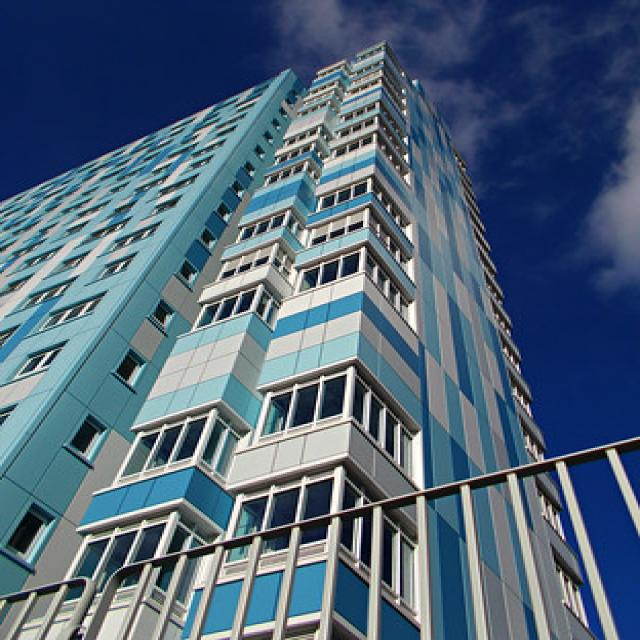Normal_building: (5, 17, 598, 640)
